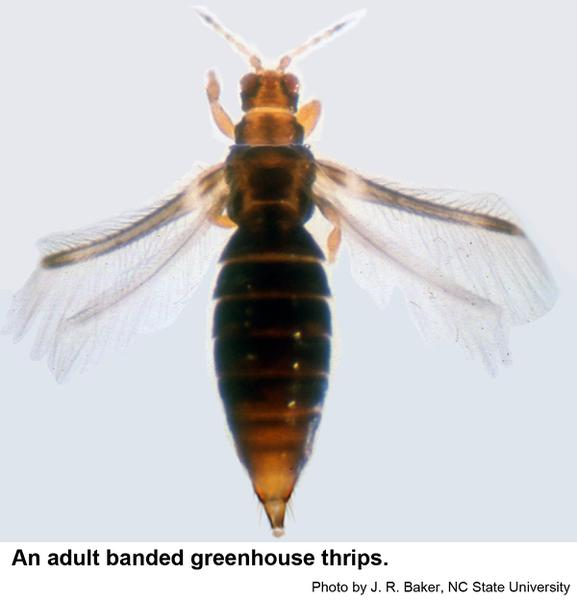Thrips: (46, 4, 577, 535)
